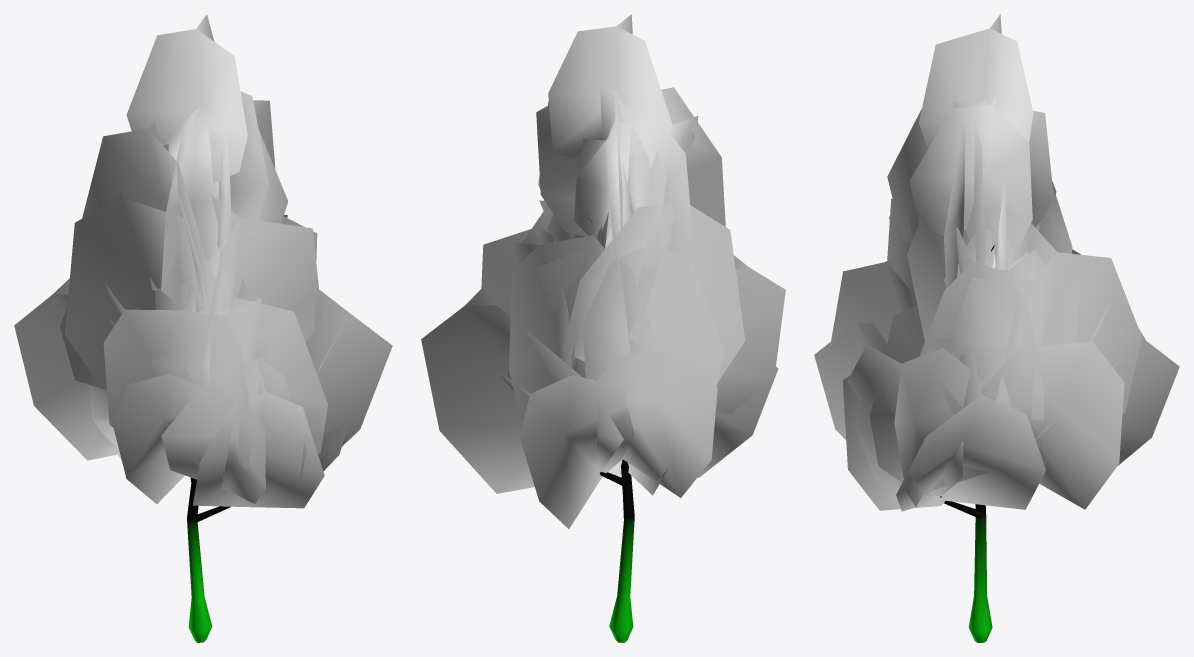
The model's file is SM_FirSapling1.FBX.
The picture shows the model from 3 angles, left to right: view 1: azimuth 30°, elevation 25°; view 2: azimuth 150°, elevation 25°; view 3: azimuth 270°, elevation 25°; orthographic projection.
Parts seen in each view (by area): view 1: SM_FirSapling1; view 2: SM_FirSapling1; view 3: SM_FirSapling1.
Part boxes in pixels (left/top/right/bottom): SM_FirSapling1: left=14, top=14, right=392, bottom=642; SM_FirSapling1: left=421, top=14, right=785, bottom=642; SM_FirSapling1: left=814, top=14, right=1179, bottom=642.
Bounding box in the file's own units: 424 × 459 × 850.
